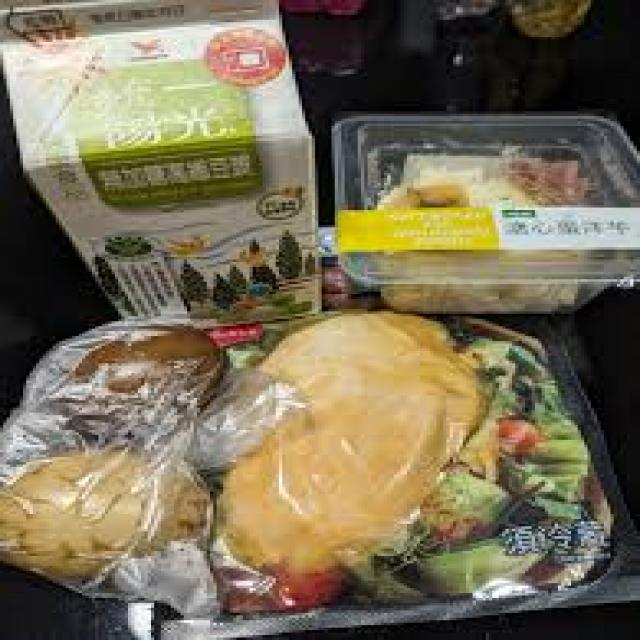TongYi_UnsweetenedHighFiberSoyMilk: (0, 0, 317, 321)
